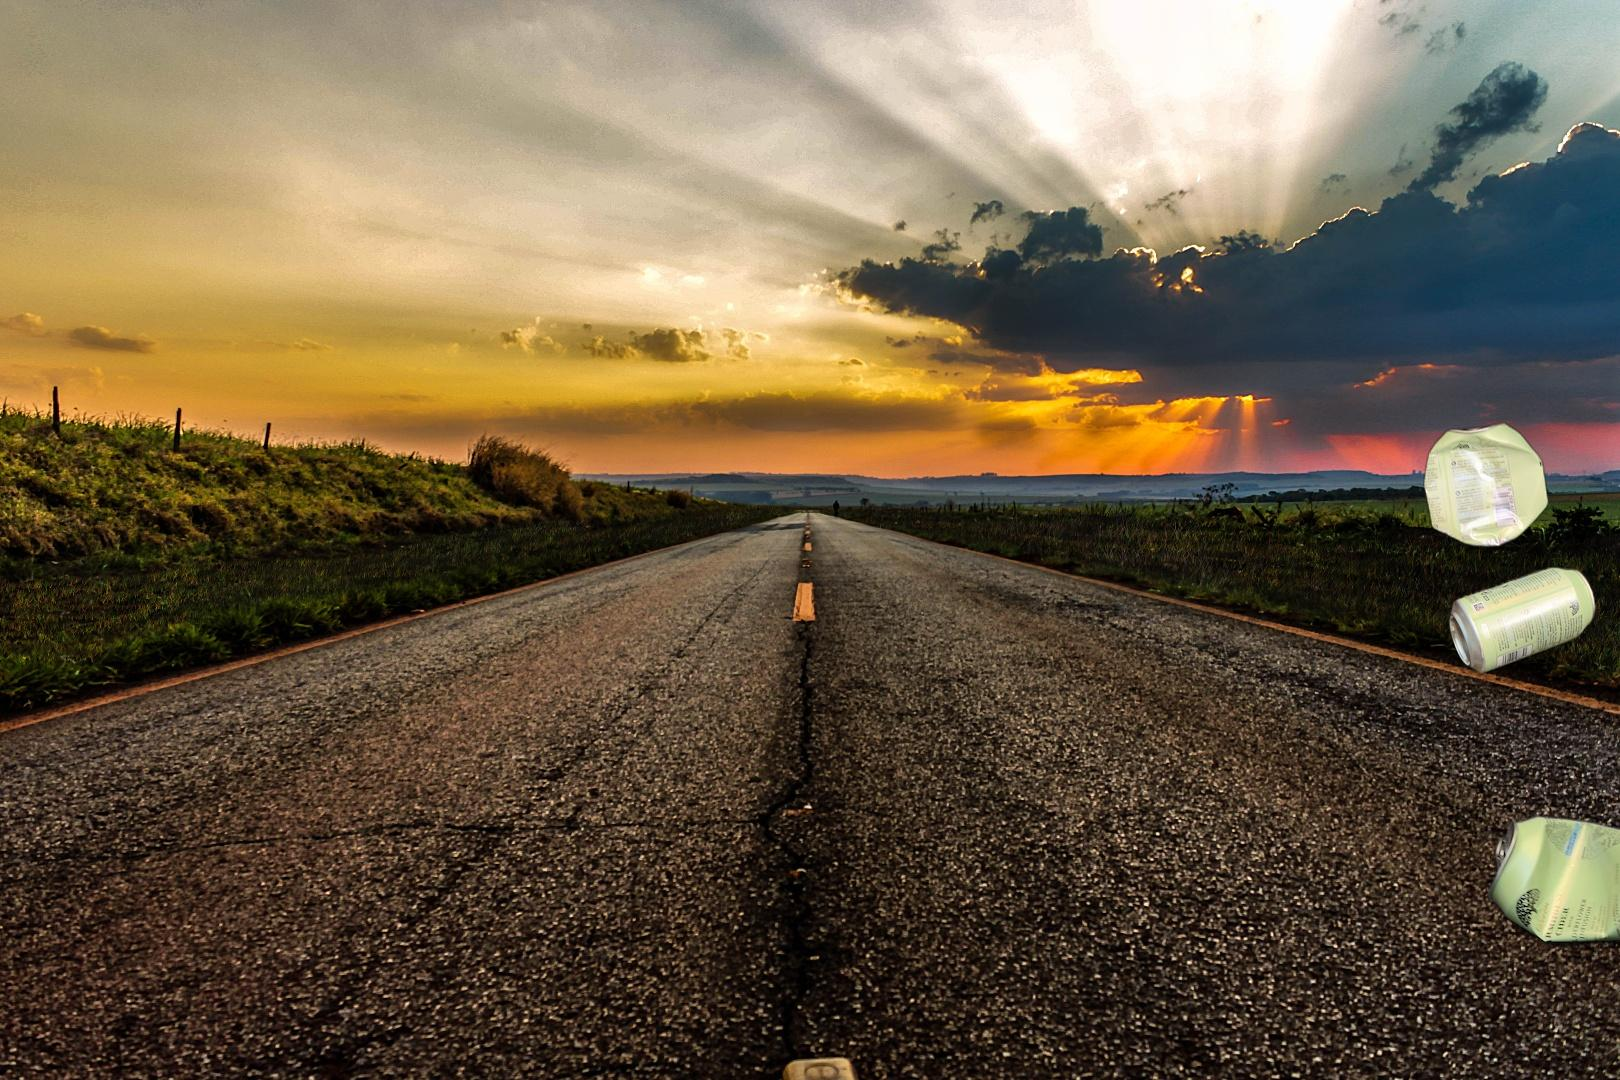metal-cans: (1483, 809, 1620, 953), (1444, 560, 1600, 681), (1420, 416, 1552, 553)
